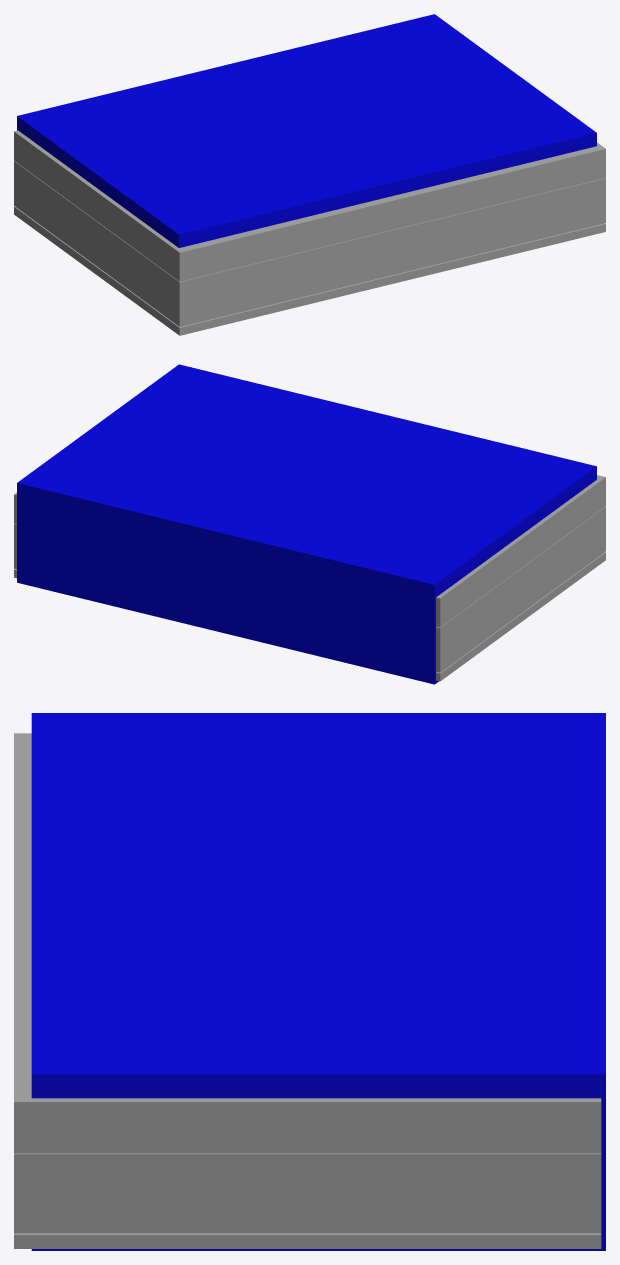
The model's file is blue book.fbx.
The picture shows the model from 3 angles, top to bottom: view 1: azimuth 30°, elevation 25°; view 2: azimuth 150°, elevation 25°; view 3: azimuth 270°, elevation 25°; orthographic projection. The views are drawn at different scales.
Parts seen in each view (by area): view 1: polySurface9; view 2: polySurface9; view 3: polySurface9.
Boxes of the visible parts, x1,y1,x2,y2 form: polySurface9: (14, 14, 605, 335); polySurface9: (14, 364, 605, 684); polySurface9: (14, 713, 605, 1250).
Bounding box in the file's own units: 0.9227 × 0.2061 × 0.6265.
